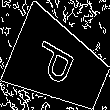P_SE: (33, 37, 85, 92)
